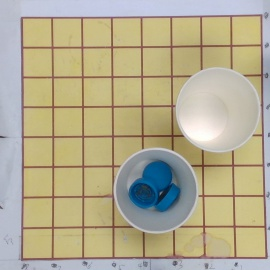cup: (176, 66, 260, 154)
cup_blue: (112, 147, 201, 236)
